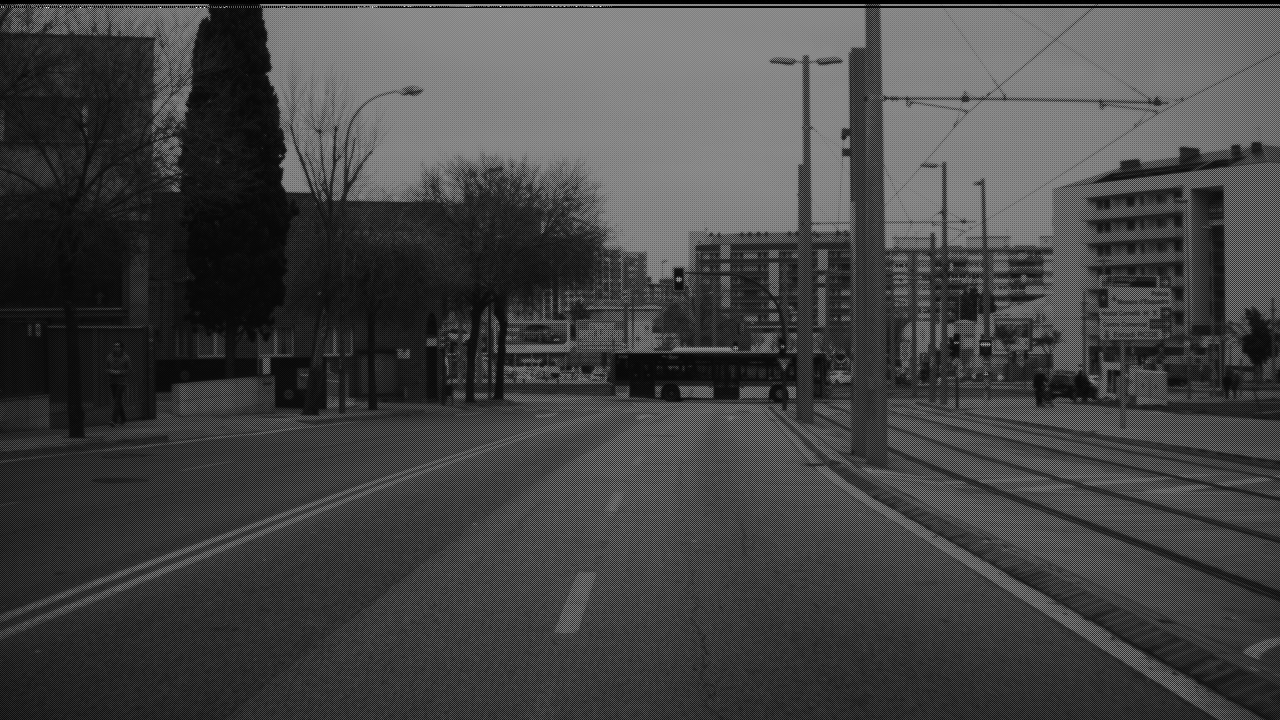pole: (865, 2, 887, 457), (798, 58, 812, 414), (340, 112, 351, 406), (979, 179, 992, 388), (940, 155, 947, 396)
